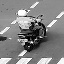mobil: (8, 6, 56, 58)
